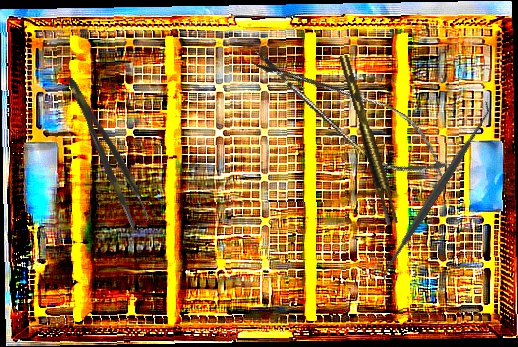Micro Scissor: (236, 33, 463, 196)
Spatula Surgical: (371, 99, 502, 284)
Tissue Forceps: (65, 71, 152, 229), (339, 52, 399, 227)
